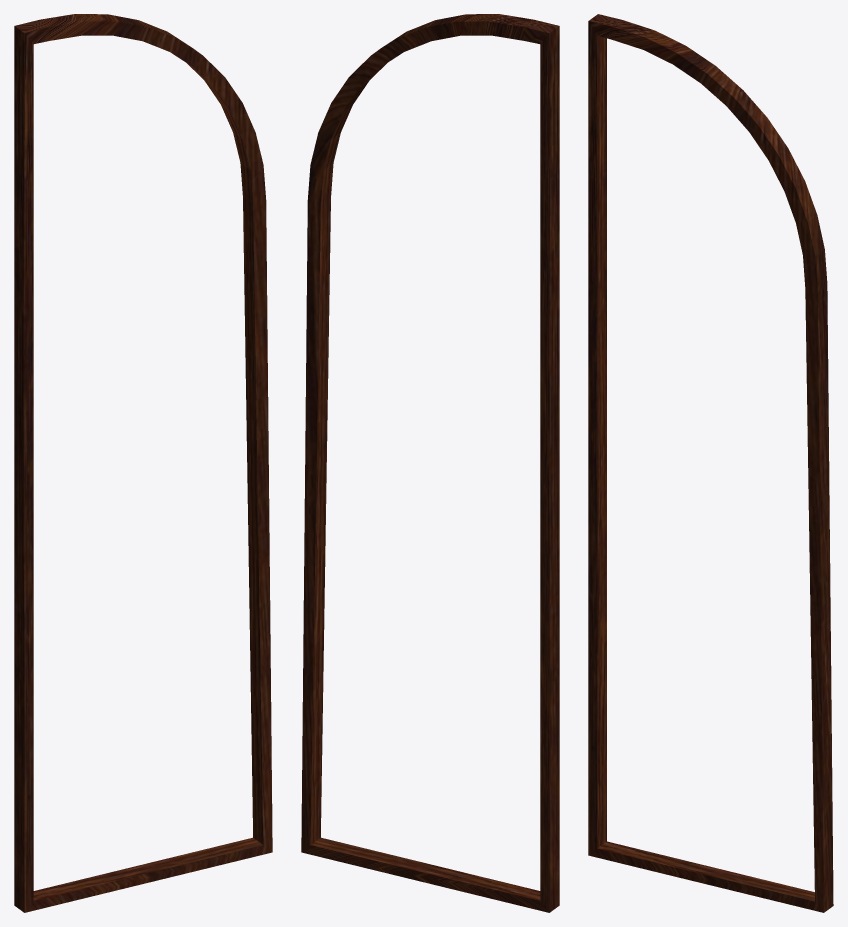
File: window_frame_right.fbx
3 renders of one model, left to right at view 1: azimuth 30°, elevation 25°; view 2: azimuth 150°, elevation 25°; view 3: azimuth 330°, elevation 25°, orthographic. The views are drawn at different scales.
Visible parts, largest first — view 1: window_frame_right; view 2: window_frame_right; view 3: window_frame_right.
Part boxes in pixels (<box>): window_frame_right: <box>14,14,272,912</box>; window_frame_right: <box>301,14,559,912</box>; window_frame_right: <box>588,14,833,912</box>.
Bounding box in the file's own units: 56.53 × 191 × 4.
